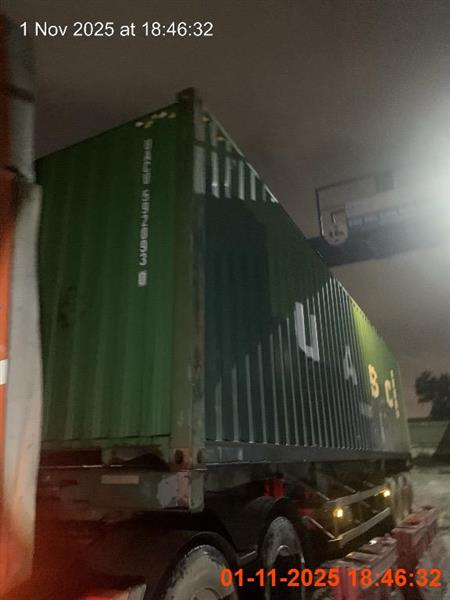hole: (10, 89, 431, 599)
